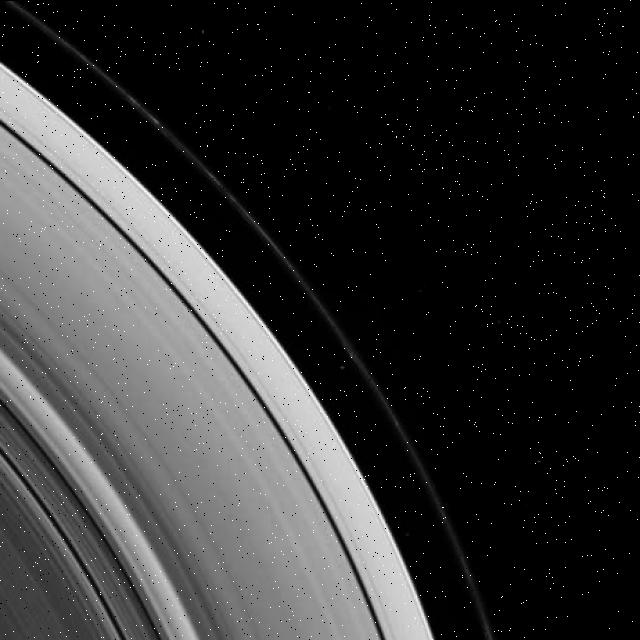Saturn: (0, 0, 511, 640)
